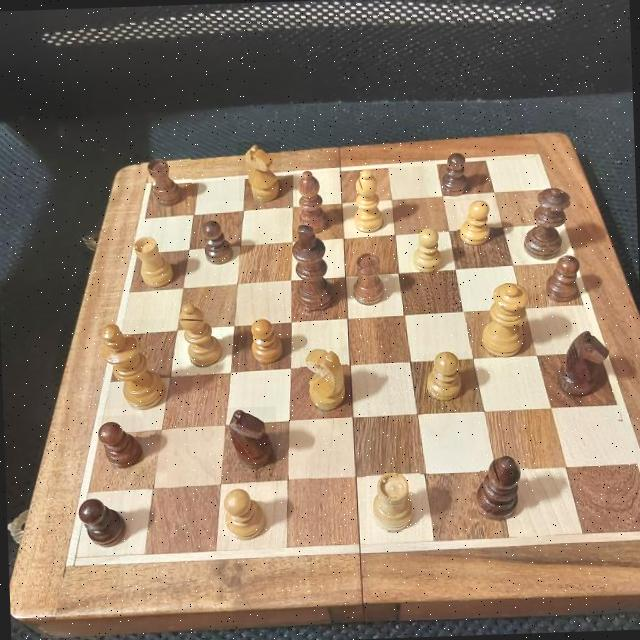black-camel: (478, 448, 530, 530), (296, 162, 334, 232)
black-elephant: (140, 152, 192, 216), (348, 254, 385, 303)
black-horse: (551, 327, 608, 406), (222, 406, 278, 472)
black-king: (289, 226, 334, 325)
black-pawn: (74, 492, 125, 543), (97, 414, 143, 470), (545, 248, 587, 308), (434, 148, 476, 198), (197, 212, 229, 264)
black-queen: (524, 186, 578, 255)
white-camel: (342, 166, 392, 232), (178, 300, 220, 360)
white-elephant: (366, 472, 421, 532), (133, 232, 169, 288)
white-horse: (299, 346, 349, 408), (236, 140, 282, 200)
white-king: (88, 318, 168, 409)
white-pawn: (216, 482, 274, 535), (416, 350, 471, 404), (244, 315, 289, 360), (406, 228, 448, 275), (456, 200, 494, 250)
white-queen: (479, 280, 533, 352)
